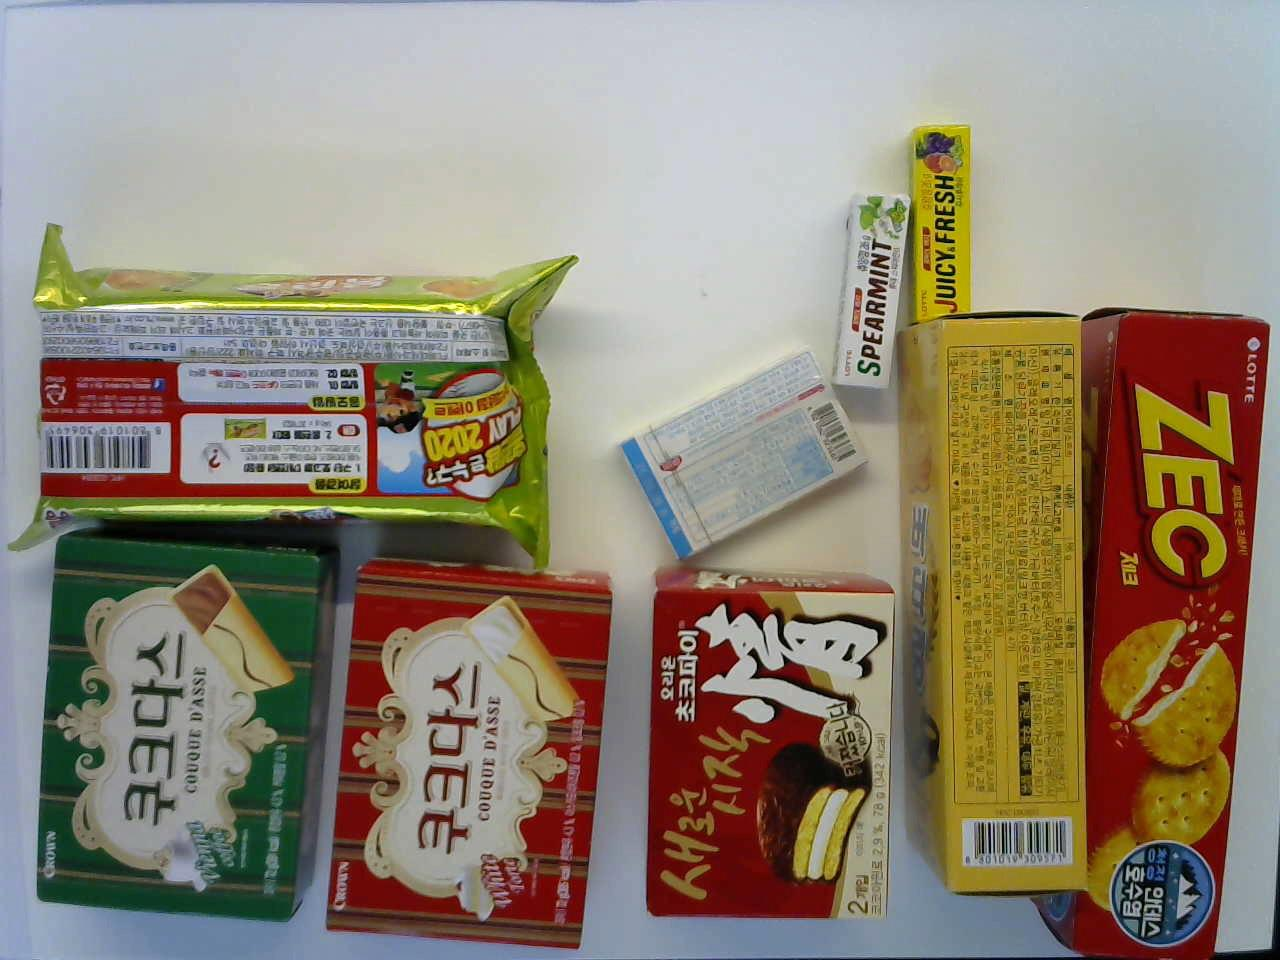ID_gum: (616, 348, 867, 565)
buttering: (902, 309, 1083, 894)
chocopie: (642, 576, 897, 923)
couque_coffee: (27, 531, 333, 926)
couque_white: (324, 563, 621, 951)
homerunball: (40, 260, 537, 539)
juicyfresh: (902, 123, 972, 316)
spearmint: (835, 193, 909, 383)
zec: (1069, 307, 1273, 950)
